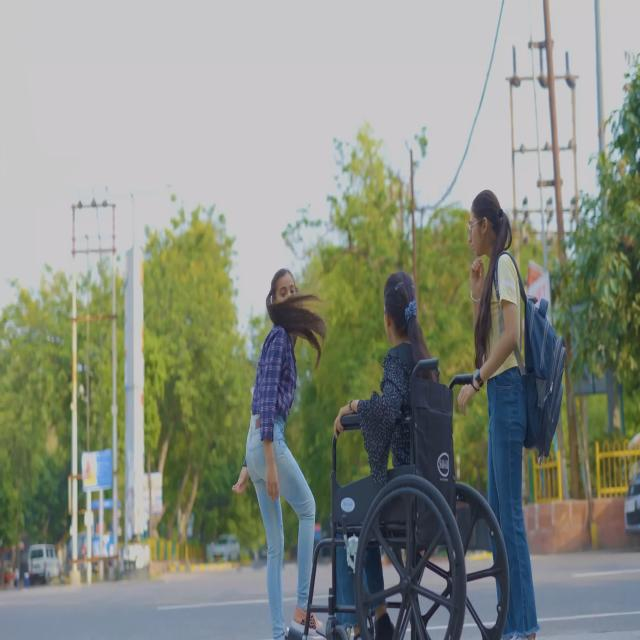wheelchairs: (283, 351, 512, 640)
